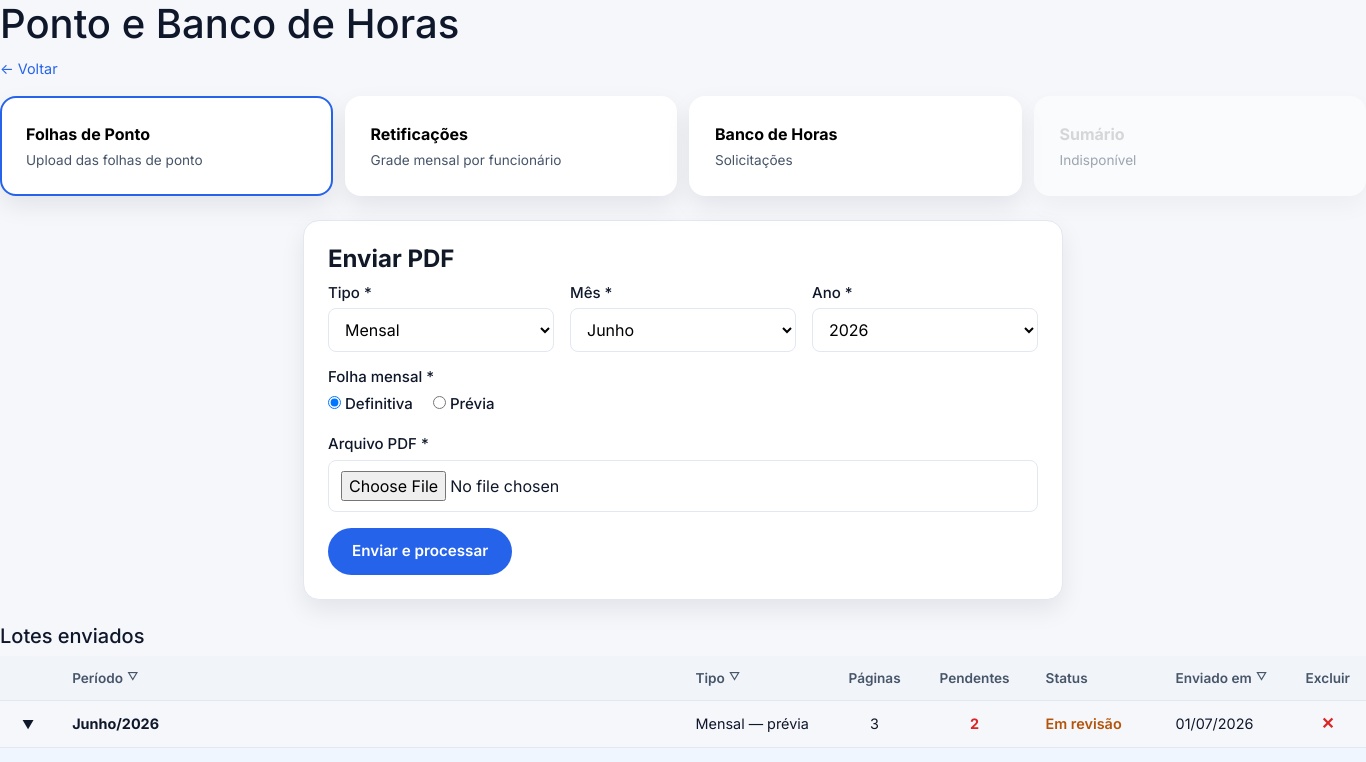
AdminPontoComponent › render da exclusão (X e modal dinâmico) › o X do lote NÃO expande/contrai a linha (stopPropagation): ele abre o modal
This screenshot has width=1366, height=762.
What coordinates should you click on to do the following:
click the button with class "btn-x-lote"
I would click on:
 (1328, 723)
Its box is left=1315, top=713, right=1340, bottom=733.
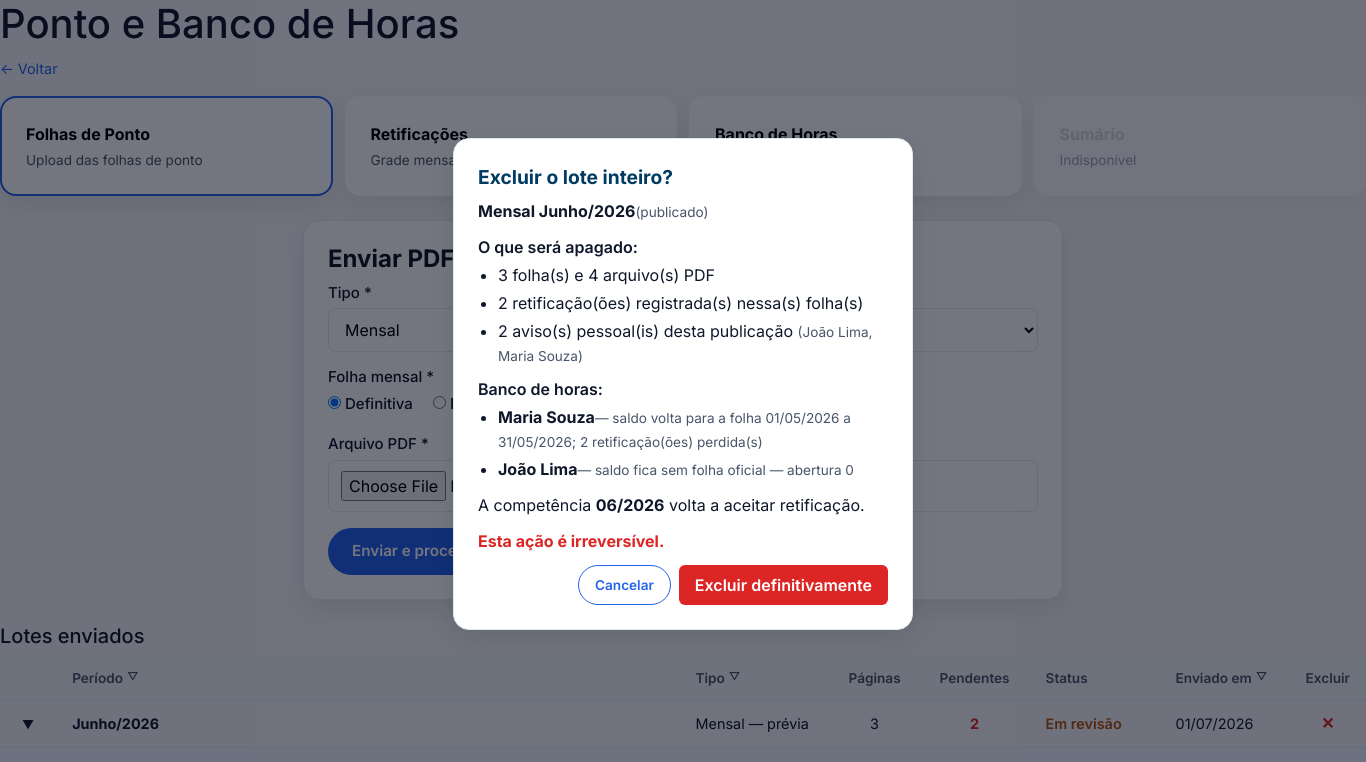
Expected: the element with class "modal-card" is shown, left=453, top=138, right=913, bottom=630
